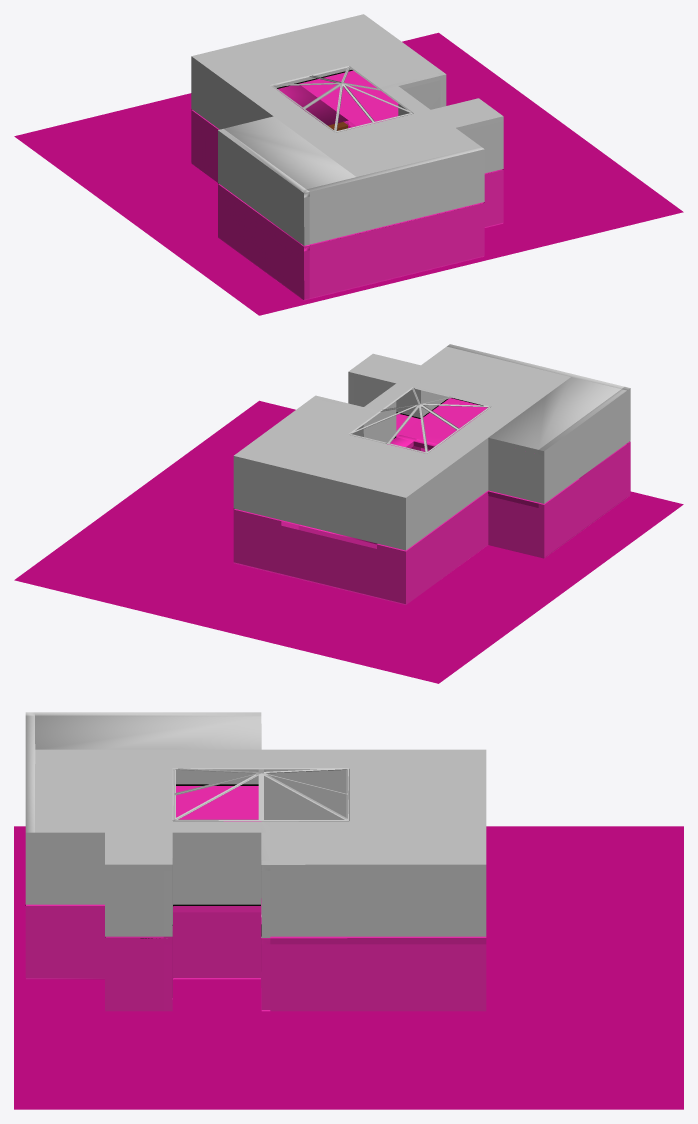
Rendered from Museum_Test6.obj.
3 views of the same model, one above another, from view 1: azimuth 30°, elevation 25°; view 2: azimuth 150°, elevation 25°; view 3: azimuth 270°, elevation 25° (orthographic). The views are drawn at different scales.
Parts seen in each view (by area): view 1: ceiling.004, Plane, ceiling.002; view 2: Plane, ceiling.004, ceiling.002; view 3: Plane, ceiling.004, ceiling.002.
Part boxes in pixels (x1=…): ceiling.004: x1=191, y1=14, x2=503, y2=245; Plane: x1=14, y1=32, x2=683, y2=315; ceiling.002: x1=191, y1=70, x2=503, y2=300; Plane: x1=14, y1=400, x2=683, y2=683; ceiling.004: x1=233, y1=344, x2=630, y2=550; ceiling.002: x1=233, y1=398, x2=630, y2=604; Plane: x1=14, y1=826, x2=683, y2=1109; ceiling.004: x1=25, y1=712, x2=486, y2=938; ceiling.002: x1=25, y1=786, x2=486, y2=1011.
Size of the model in its own units: 35.48 by 9.86 by 35.48.
